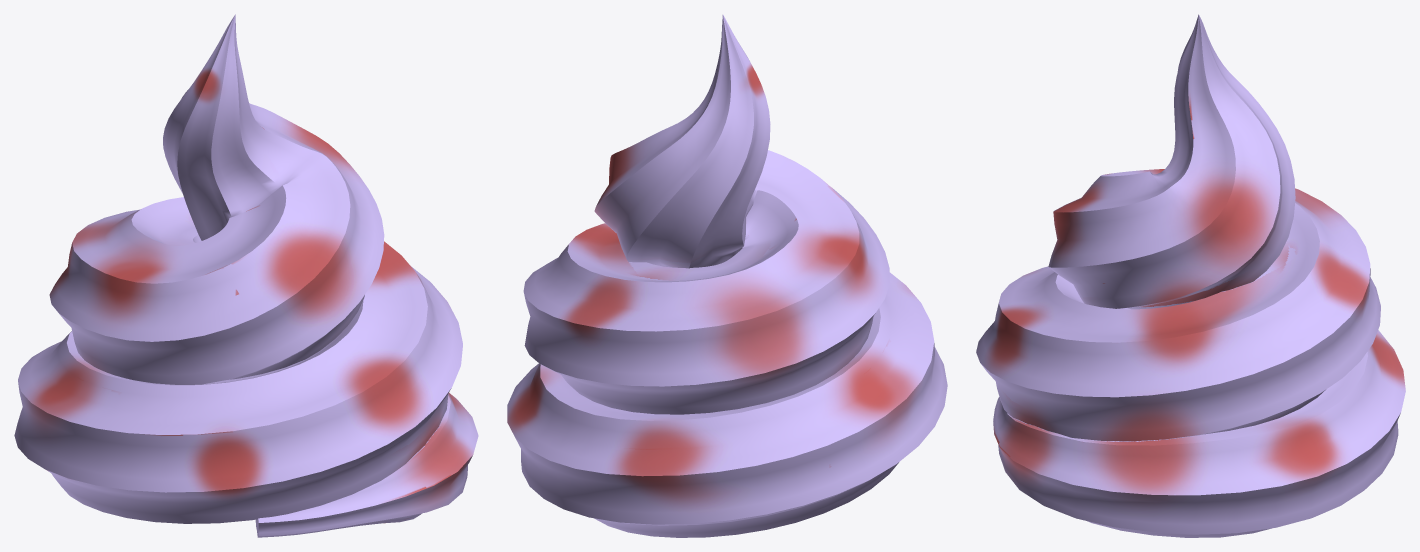
File: cream.gltf
The picture shows the model from 3 angles, left to right: view 1: azimuth 30°, elevation 25°; view 2: azimuth 150°, elevation 25°; view 3: azimuth 270°, elevation 25°; orthographic projection. The views are drawn at different scales.
Visible parts, largest first — view 1: Object_38; view 2: Object_38; view 3: Object_38.
Boxes of the visible parts, box(x1,y1,x2,y2) form: Object_38: box(14, 14, 478, 537); Object_38: box(507, 15, 947, 537); Object_38: box(976, 14, 1405, 537).
Size of the model in its own units: 1.89 by 2.26 by 1.9.
1 material, 1 textured.
